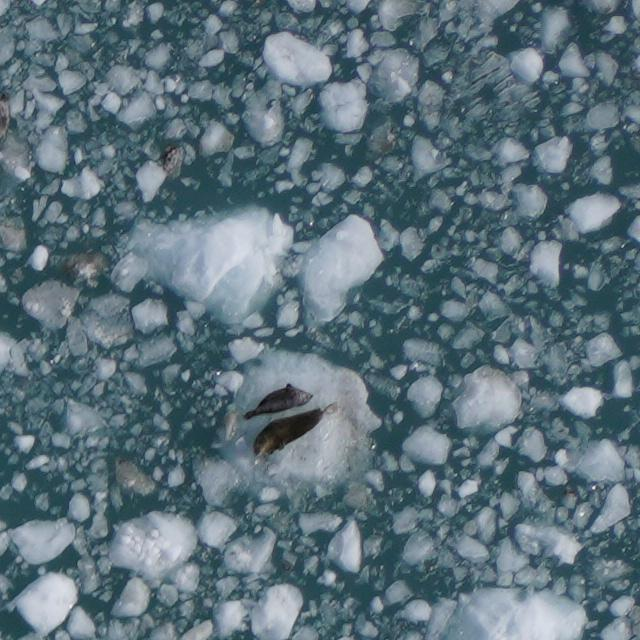seal: (245, 387, 341, 462), (235, 377, 315, 425)
